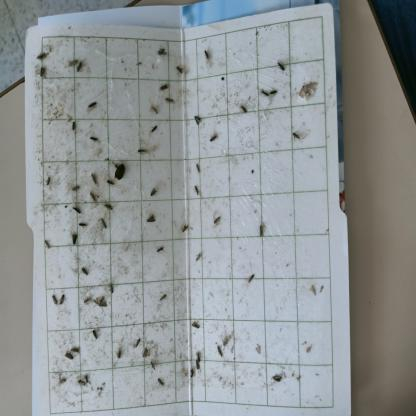prays_oleae: (294, 70, 318, 100), (266, 366, 284, 389), (157, 283, 169, 315), (290, 128, 307, 150), (244, 266, 258, 292), (82, 288, 96, 312), (90, 318, 101, 348), (192, 243, 206, 266), (76, 52, 87, 80), (155, 368, 169, 390), (63, 53, 80, 71), (67, 178, 83, 197), (89, 160, 99, 190), (114, 342, 129, 362), (238, 96, 248, 126), (153, 41, 168, 61), (154, 239, 170, 257), (78, 258, 90, 281), (180, 214, 192, 237), (135, 141, 149, 160), (101, 197, 116, 214), (258, 83, 270, 104), (190, 313, 202, 334), (43, 231, 53, 255), (98, 214, 110, 233), (70, 230, 82, 249), (35, 62, 49, 78), (165, 90, 176, 110), (216, 343, 226, 365), (192, 110, 203, 130), (276, 57, 288, 75), (174, 60, 187, 76), (106, 281, 116, 301), (59, 292, 68, 314), (203, 44, 214, 62), (87, 130, 101, 144), (158, 76, 170, 92), (188, 366, 200, 382), (71, 204, 83, 219), (140, 345, 152, 360), (147, 185, 159, 200), (193, 182, 203, 200), (86, 98, 100, 110), (62, 352, 76, 364), (52, 288, 58, 316), (213, 209, 221, 230), (149, 103, 161, 117), (195, 157, 204, 175), (206, 133, 217, 147), (257, 219, 264, 241), (72, 339, 82, 354), (87, 189, 96, 205), (268, 86, 280, 98), (192, 361, 203, 374), (77, 222, 91, 232), (149, 123, 163, 133), (148, 360, 158, 373), (196, 348, 204, 364), (102, 179, 116, 188), (36, 49, 48, 59), (134, 336, 141, 351)
